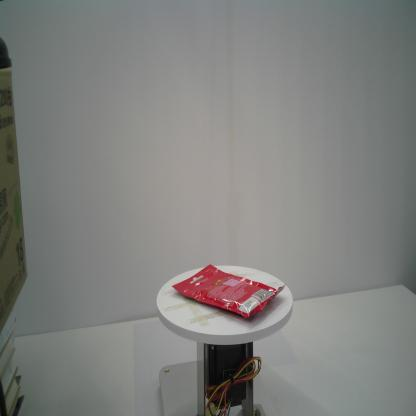Candy: (171, 262, 286, 320)
